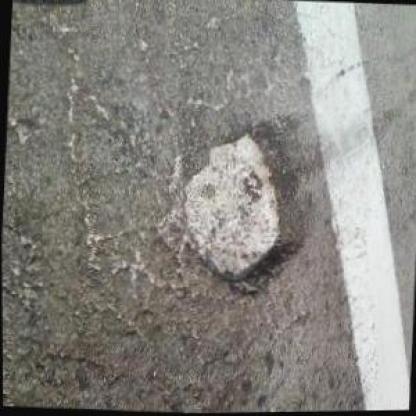pothole: (166, 116, 314, 301)
